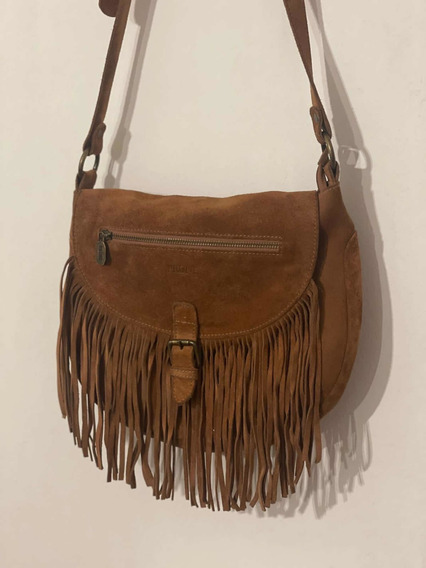cartera: (53, 1, 369, 515)
